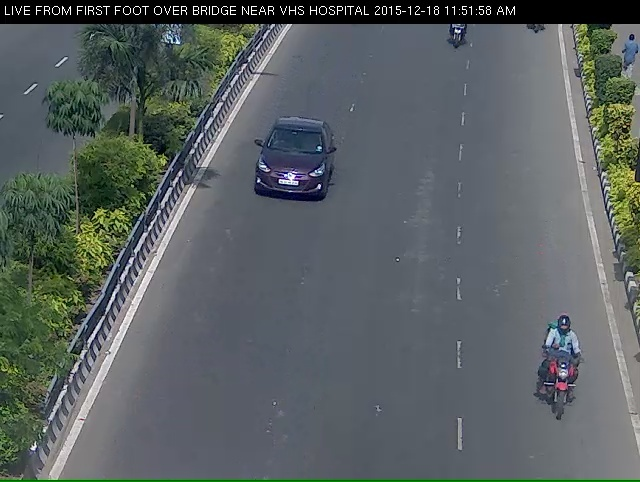Car: (240, 133, 338, 230)
Person: (532, 337, 588, 444)
